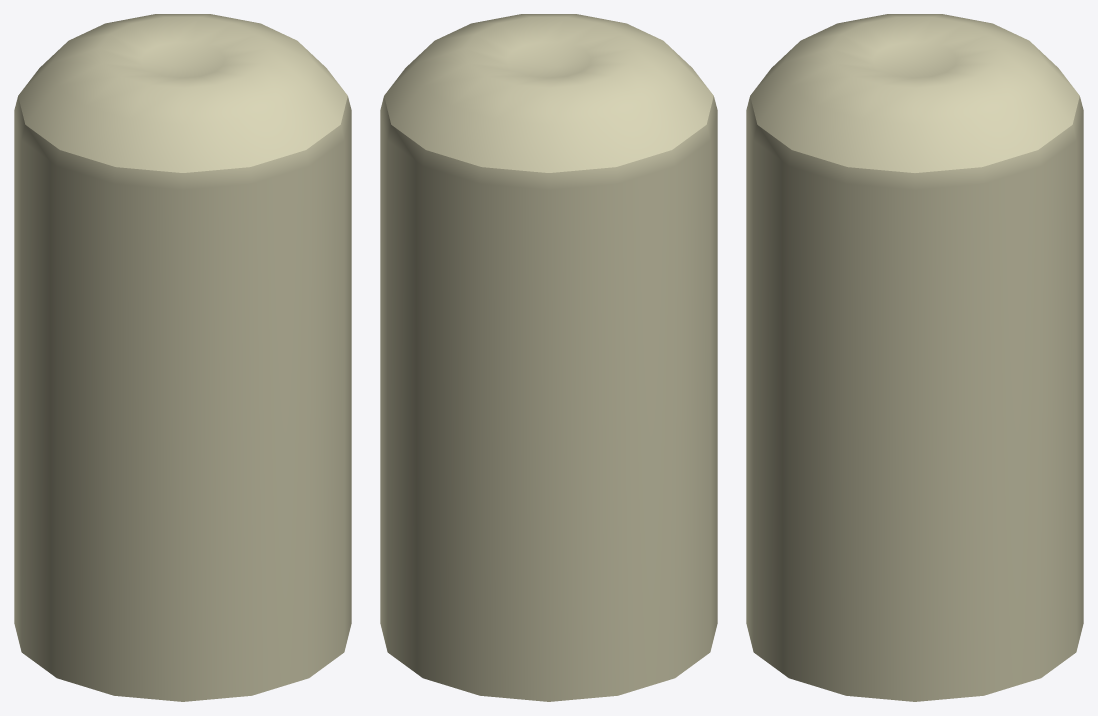
File: kaars.fbx
3 renders of one model, left to right at view 1: azimuth 30°, elevation 25°; view 2: azimuth 150°, elevation 25°; view 3: azimuth 270°, elevation 25°, orthographic.
Visible parts, largest first — view 1: pCylinder1; view 2: pCylinder1; view 3: pCylinder1.
Part boxes in pixels (x1=…): pCylinder1: x1=14, y1=14, x2=351, y2=701; pCylinder1: x1=380, y1=14, x2=717, y2=701; pCylinder1: x1=746, y1=14, x2=1083, y2=701.
Size of the model in its own units: 1.98 by 3.76 by 1.99.
